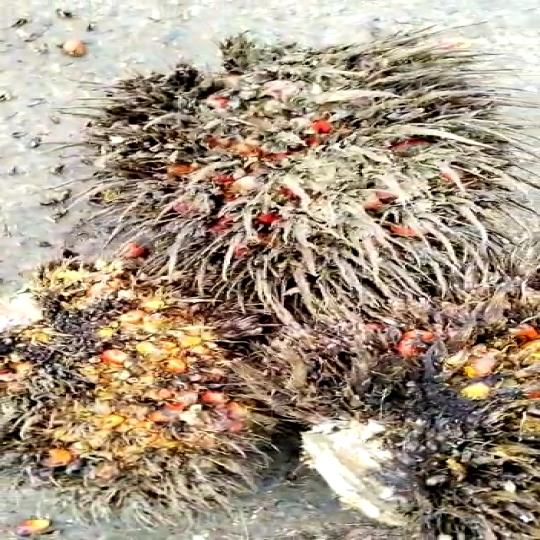terlalu masak: (44, 34, 540, 268), (0, 265, 270, 514)
